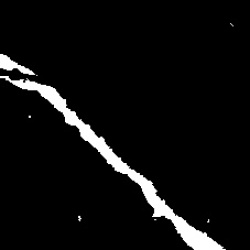crack: (6, 78, 225, 247), (2, 54, 33, 75)
